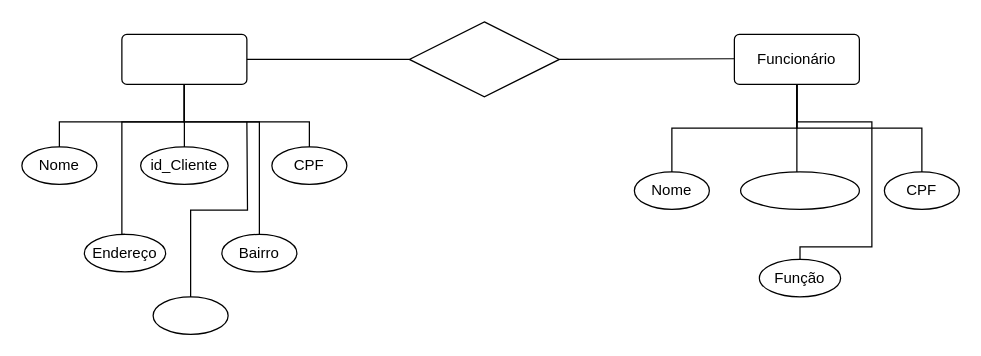
This 981x356 diagram has some shape labels left out. Each missing label, with the centre of its shape:
"Cliente" belongs at (184,58).
"id_Funcionário" belongs at (799,190).
"Número" belongs at (190,315).
"Venda" belongs at (483,59).
